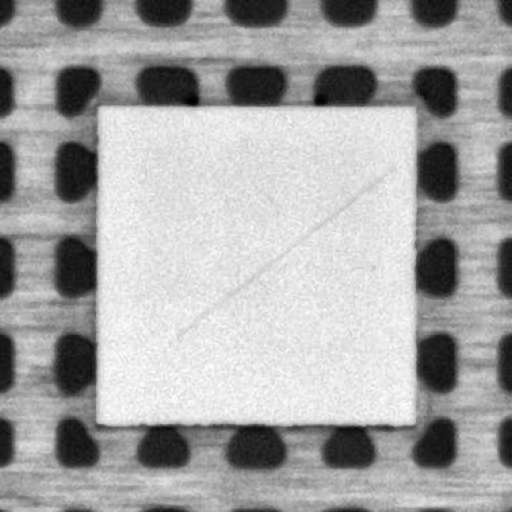DIE_CRACK: (176, 167, 392, 336)
